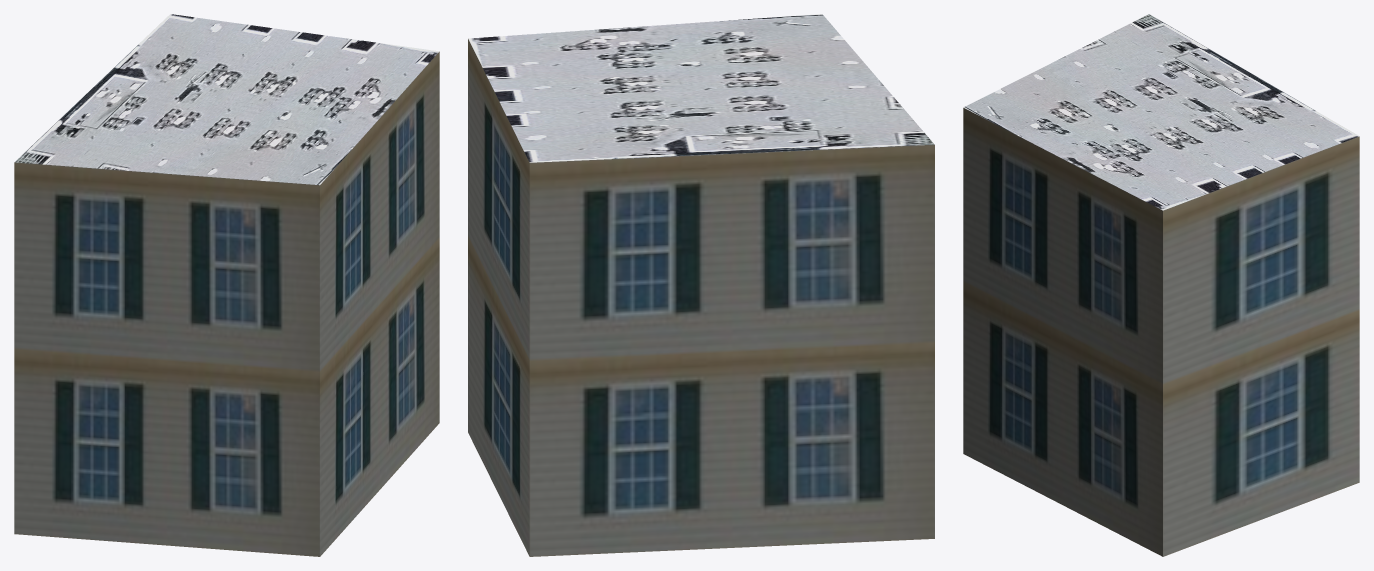
File: ResTex__2930.fbx
3 views of the same model, side by side, from view 1: azimuth 30°, elevation 25°; view 2: azimuth 150°, elevation 25°; view 3: azimuth 270°, elevation 25° (orthographic). The views are drawn at different scales.
Visible parts, largest first — view 1: CityEngineMaterial_7_m, CityEngineMaterial_15_m; view 2: CityEngineMaterial_7_m, CityEngineMaterial_15_m; view 3: CityEngineMaterial_7_m, CityEngineMaterial_15_m.
Part boxes in pixels (x1,y1,x2,y2): CityEngineMaterial_7_m: (14,51,439,556); CityEngineMaterial_15_m: (15,14,439,185); CityEngineMaterial_7_m: (468,39,934,556); CityEngineMaterial_15_m: (468,14,934,162); CityEngineMaterial_7_m: (963,108,1359,556); CityEngineMaterial_15_m: (963,14,1359,210).
Size of the model in its own units: 7.31 by 6 by 6.23.
Materials: 2 (2 with a texture image).
